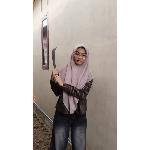Golok: (50, 45, 64, 83)
